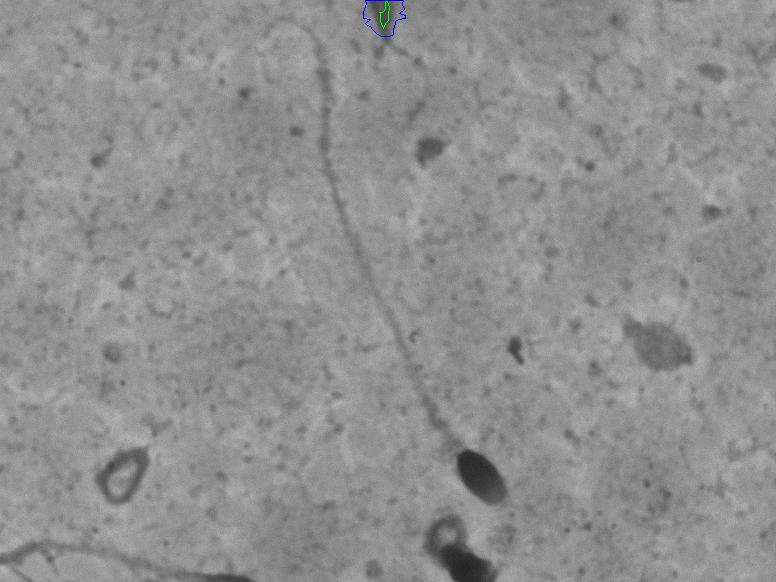Normal: (231, 13, 581, 507)
